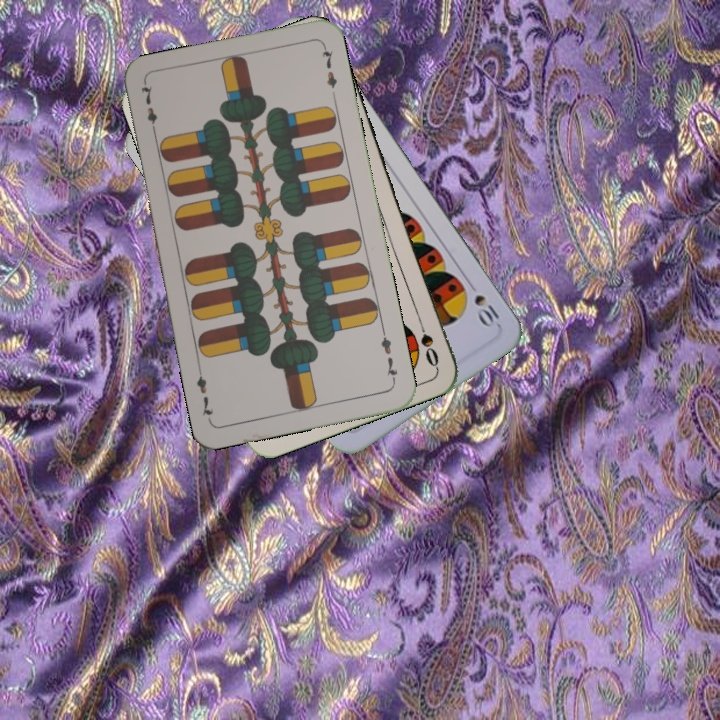E7: (377, 327, 401, 385), (137, 80, 160, 139)
S10: (463, 276, 502, 330)
SO: (413, 312, 442, 370)
